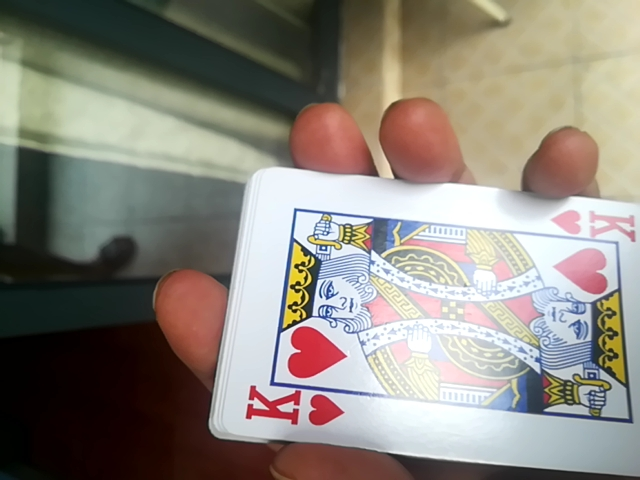hx k: (204, 166, 636, 474)
